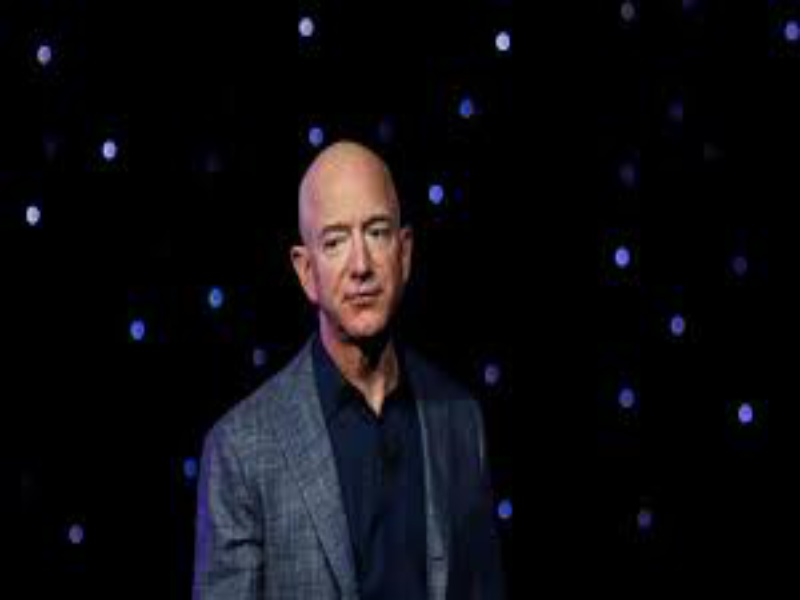TsisyArotava: (289, 160, 423, 345)
